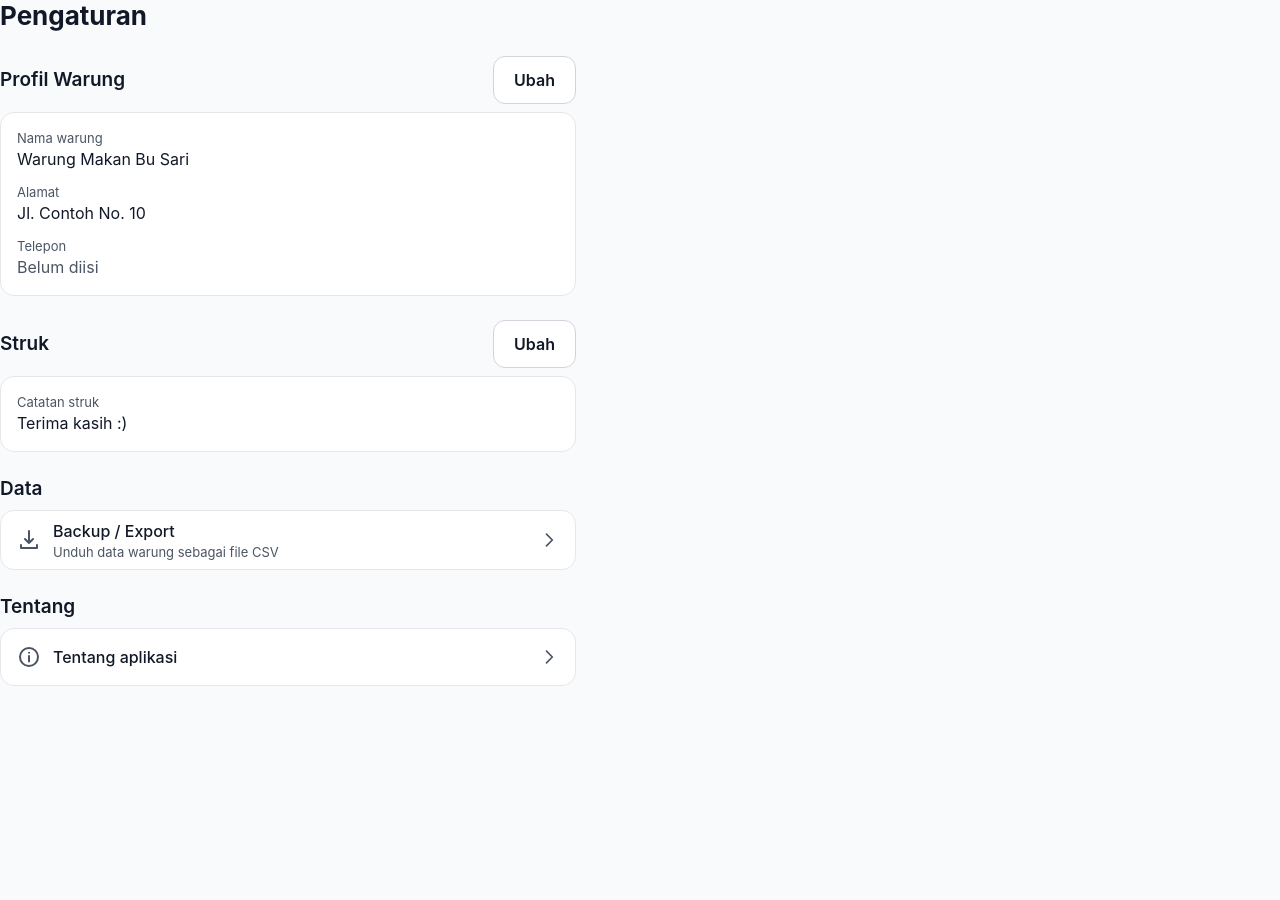
store settings › keeps the sheet open with the reason when saving fails
Check: the text "Warung Makan Bu Sari" is shown, box [17,149,189,169]
Click the button with aria-label "Ubah catatan struk": {"x": 535, "y": 344} [493,320,576,368]
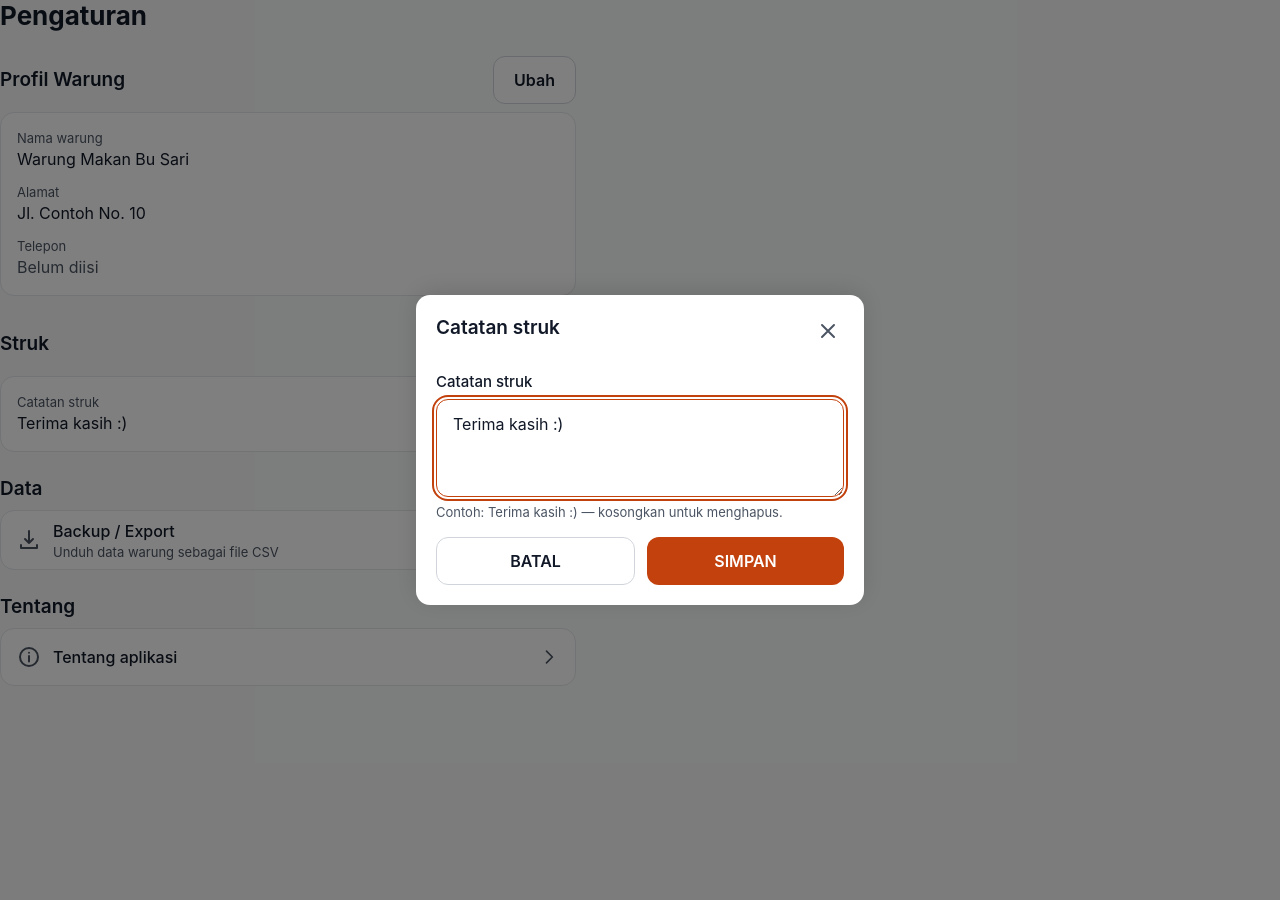
Replace the text in the text box labelled "Catatan struk" with "Sampai jumpa": {"x": 640, "y": 448} [436,399,844,497]
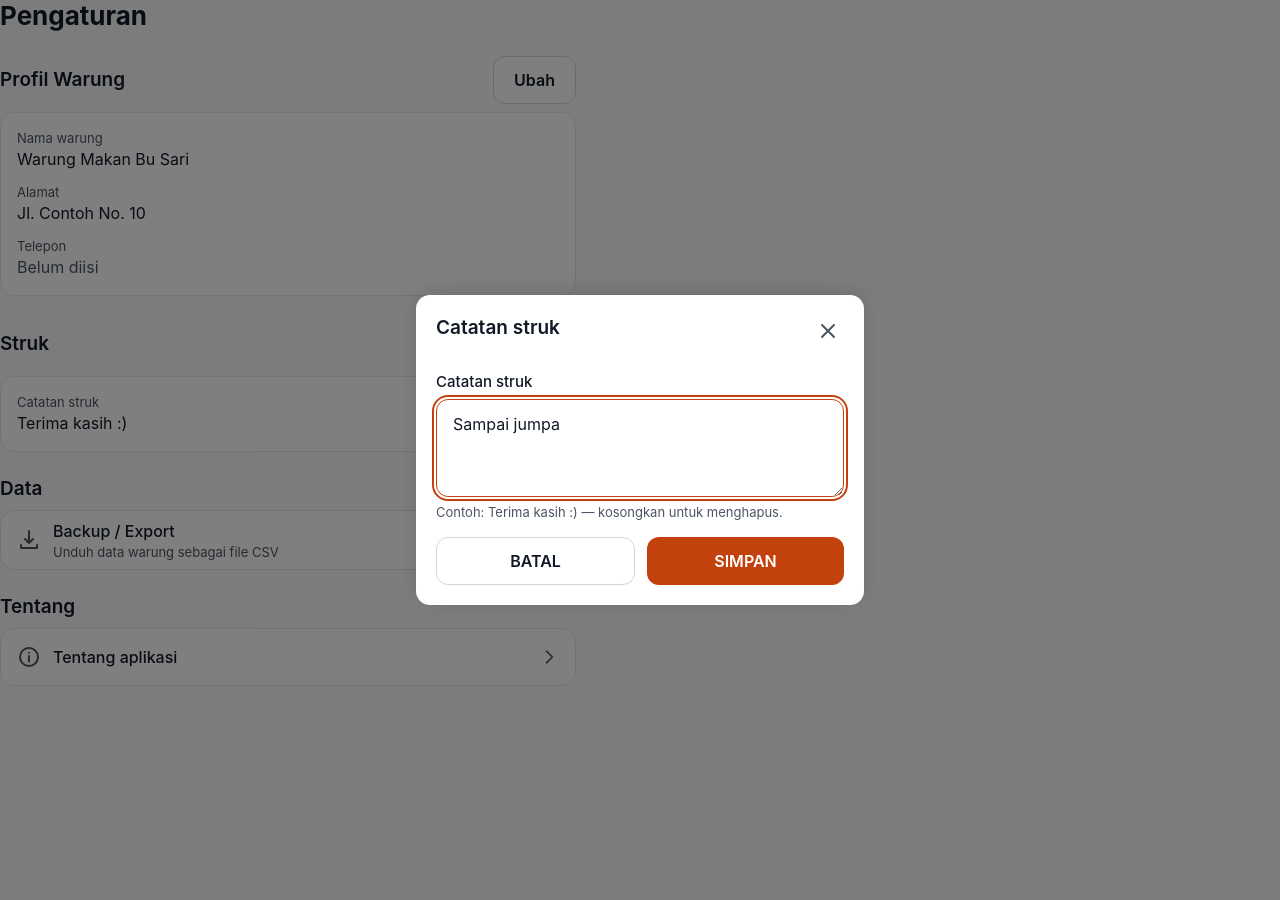
Click the button "SIMPAN": {"x": 746, "y": 561} [647,537,844,585]
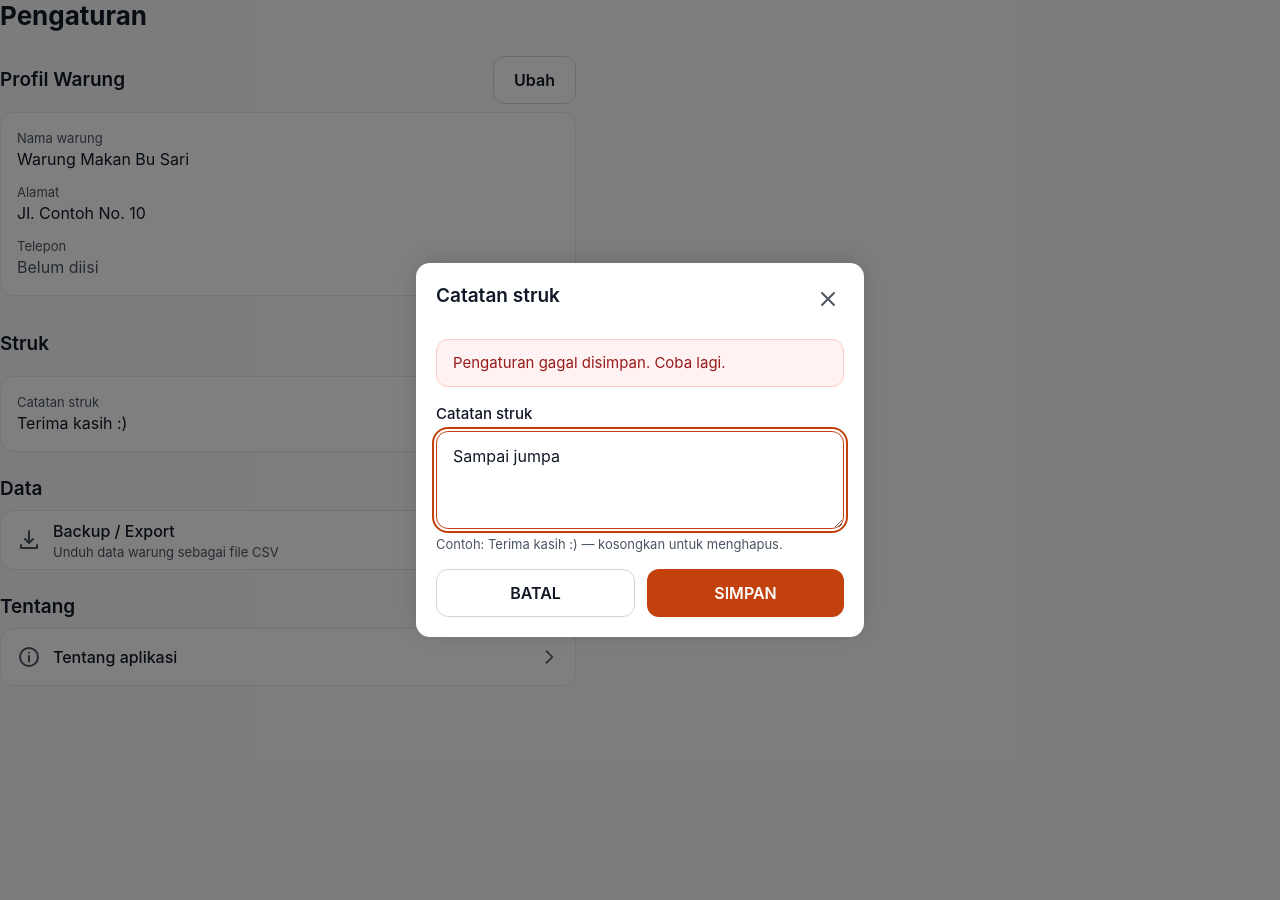
Check: the message reads "Pengaturan gagal disimpan. Coba lagi.", box [453,353,726,372]
